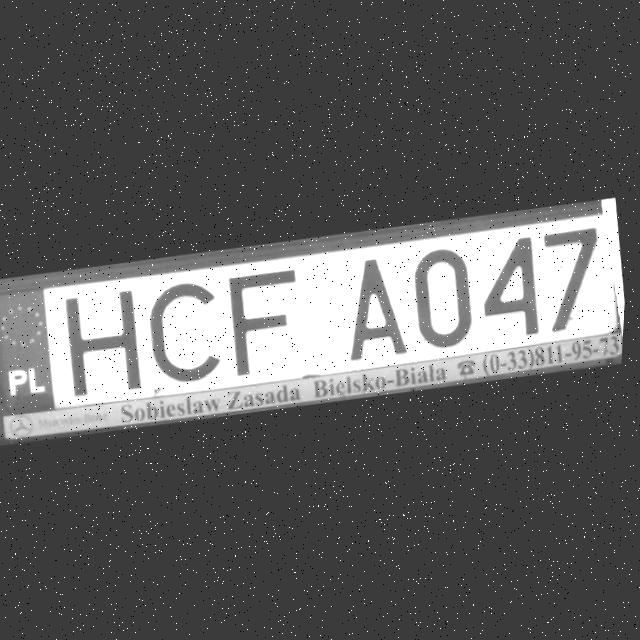license-plates: (0, 213, 622, 417)
